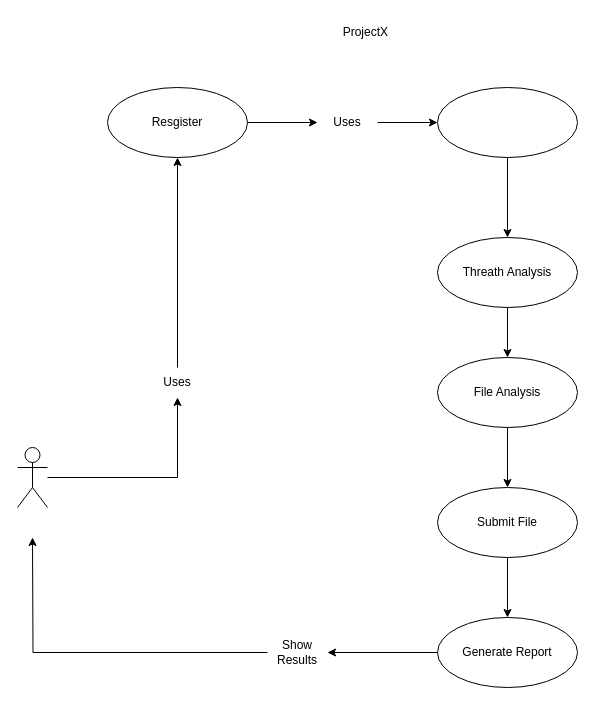
Some shapes in this 595 by 705 pixel diagram are drawn without their labels. The centre of each missing label's shape, as x and y in pixels:
"Login" goes at [507,122].
"User" goes at [32,477].
